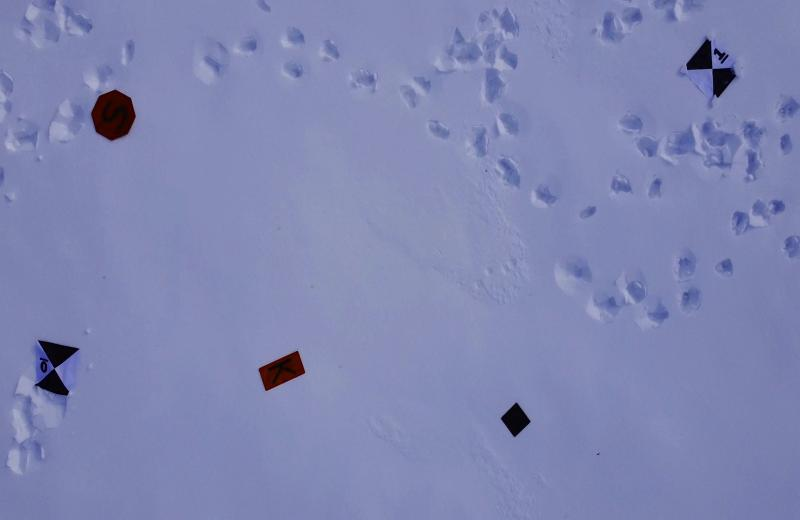Octagon: (88, 88, 137, 143)
Rectangle: (258, 350, 307, 392)
Square: (500, 402, 531, 437)
